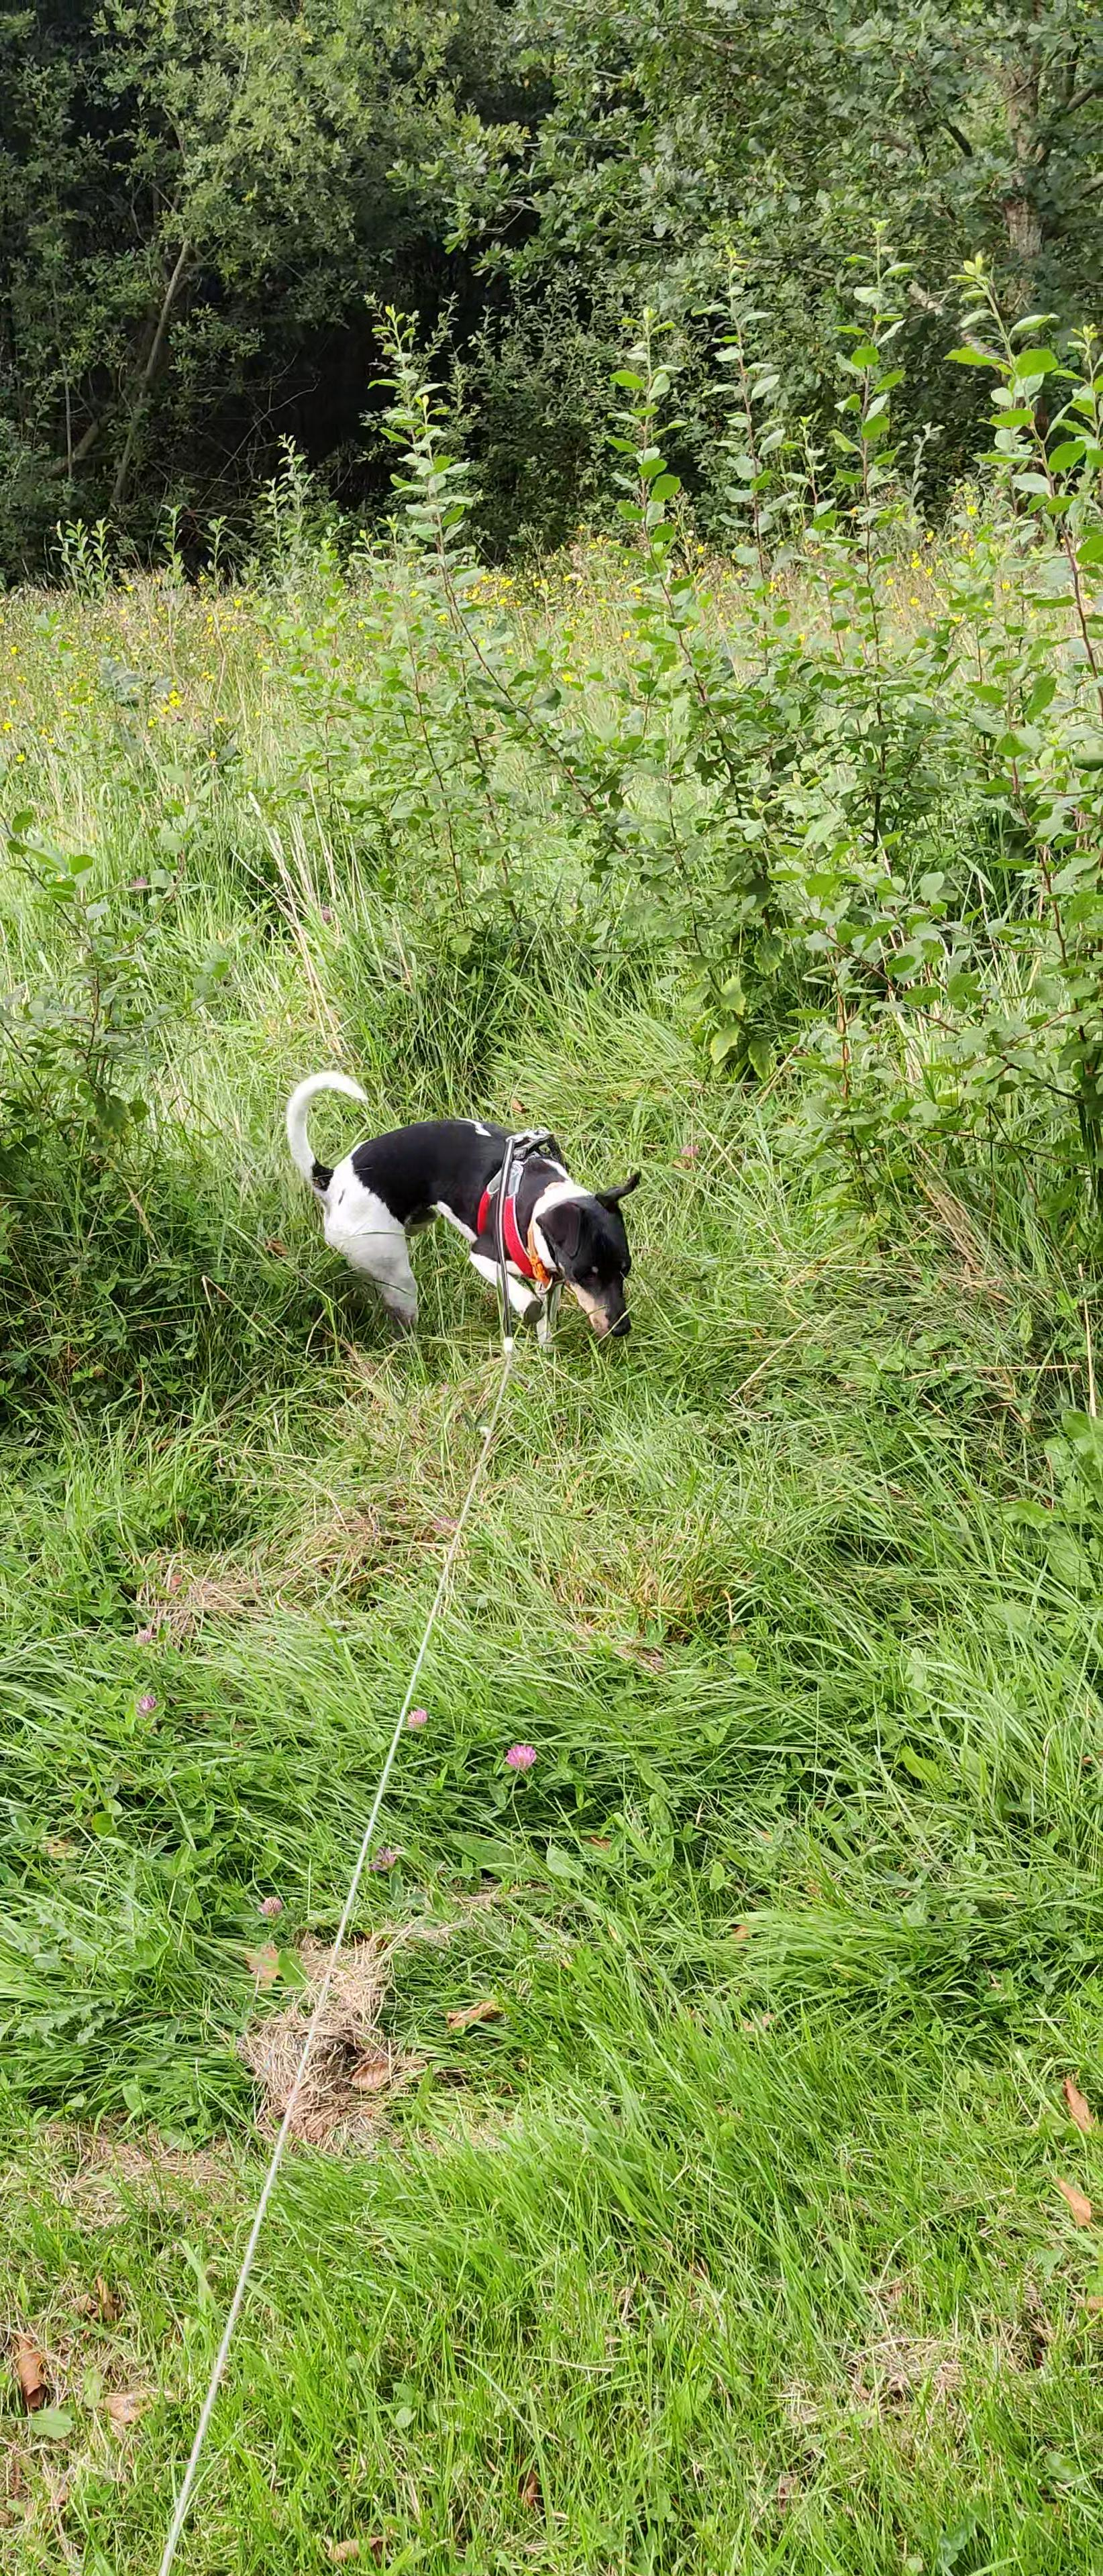Dog: (281, 1065, 643, 1357)
